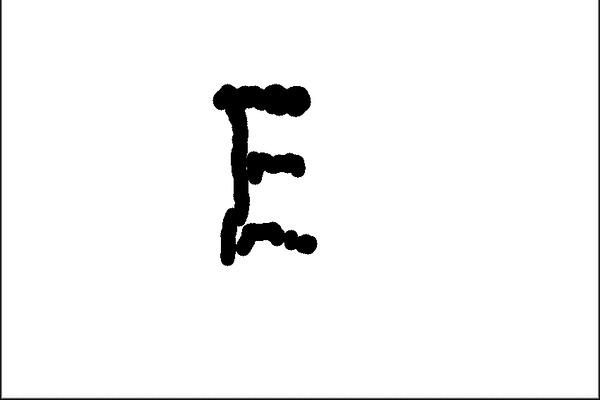E: (209, 81, 329, 268)
